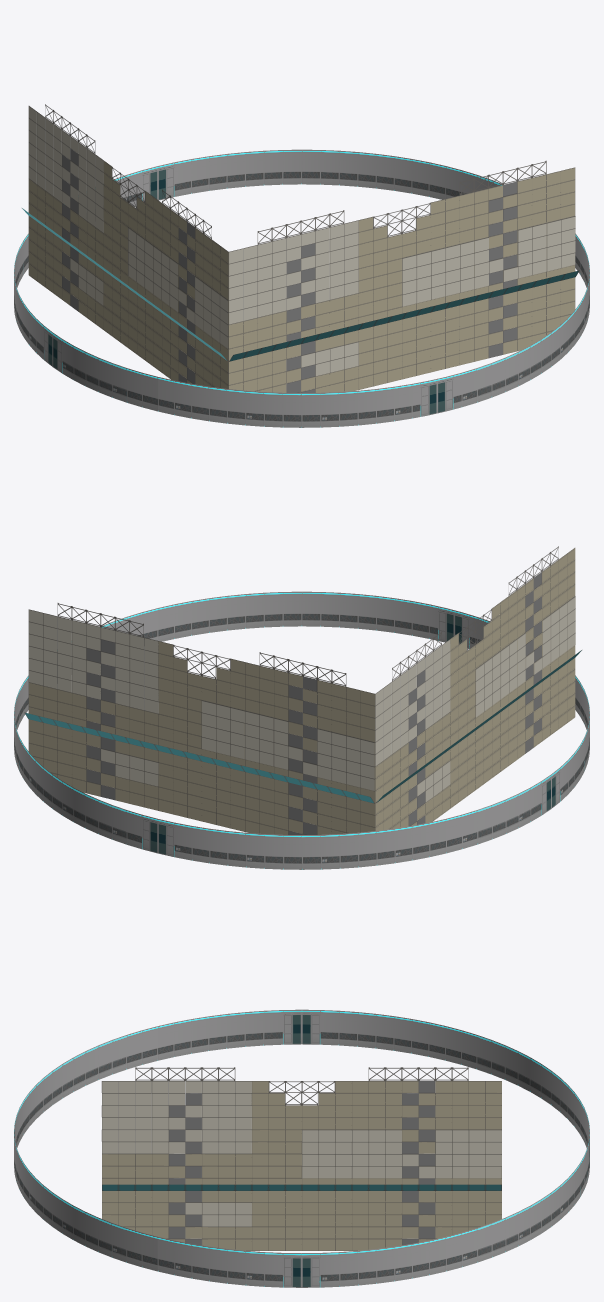
Rendered from t1_b_enclosure_b.glb.
3 views of the same model, one above another, from view 1: azimuth 30°, elevation 25°; view 2: azimuth 150°, elevation 25°; view 3: azimuth 270°, elevation 25° (orthographic).
Parts seen in each view (by area): view 1: nomerge_t1_b_enclosure_b_mid, nomerge_t1_b_enclosure_a_outer, nomerge_t1_b_enclosure_a_inner, nomerge_t1_b_enclosure_b_trans_cross; view 2: nomerge_t1_b_enclosure_b_mid, nomerge_t1_b_enclosure_a_outer, nomerge_t1_b_enclosure_a_inner, nomerge_t1_b_enclosure_b_trans_cross; view 3: nomerge_t1_b_enclosure_b_mid, nomerge_t1_b_enclosure_a_inner, nomerge_t1_b_enclosure_a_outer, nomerge_t1_b_enclosure_b_trans_cross.
Boxes of the visible parts, <box> form: nomerge_t1_b_enclosure_b_mid: <box>22,106,579,392</box>; nomerge_t1_b_enclosure_a_outer: <box>14,274,589,427</box>; nomerge_t1_b_enclosure_a_inner: <box>14,149,589,287</box>; nomerge_t1_b_enclosure_b_trans_cross: <box>45,104,546,244</box>; nomerge_t1_b_enclosure_b_mid: <box>24,548,581,834</box>; nomerge_t1_b_enclosure_a_outer: <box>14,716,589,869</box>; nomerge_t1_b_enclosure_a_inner: <box>14,591,589,729</box>; nomerge_t1_b_enclosure_b_trans_cross: <box>57,546,558,686</box>; nomerge_t1_b_enclosure_b_mid: <box>101,1081,501,1250</box>; nomerge_t1_b_enclosure_a_inner: <box>14,1009,589,1148</box>; nomerge_t1_b_enclosure_a_outer: <box>14,1134,589,1287</box>; nomerge_t1_b_enclosure_b_trans_cross: <box>135,1067,468,1105</box>.
Size of the model in its own units: 128 by 44.98 by 128.
Materials: 3 (3 with a texture image).
